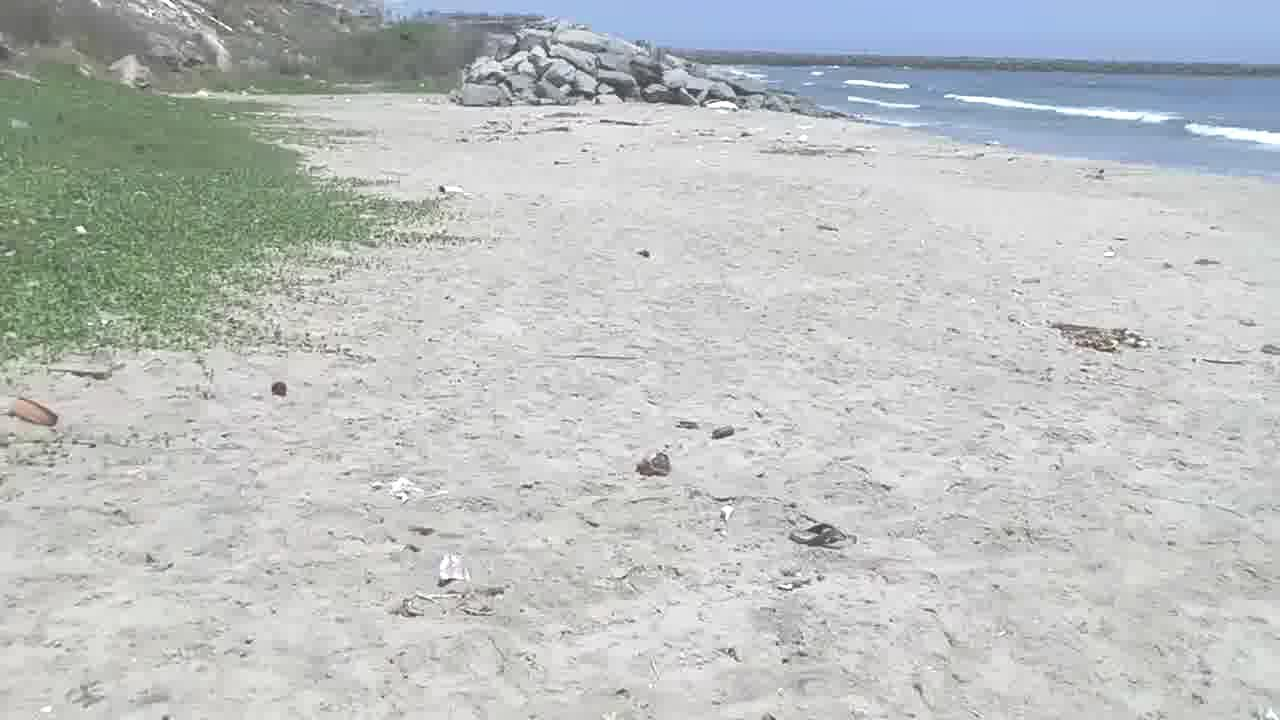obj: (0, 72, 486, 378), (393, 582, 506, 624), (1052, 322, 1144, 356), (5, 398, 62, 432), (792, 527, 860, 551), (632, 450, 678, 480), (436, 185, 468, 198)
sand/background: (0, 0, 1279, 206)
